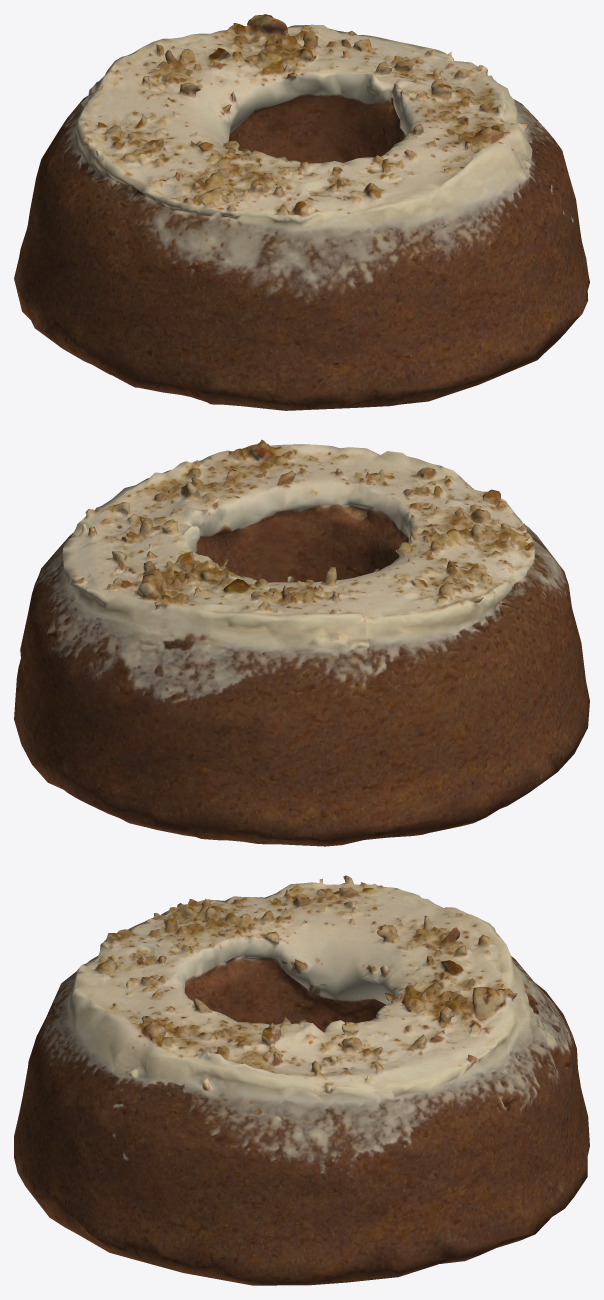
File: carrot_cake_1k.gltf
3 views of the same model, one above another, from view 1: azimuth 30°, elevation 25°; view 2: azimuth 150°, elevation 25°; view 3: azimuth 270°, elevation 25° (orthographic). The views are drawn at different scales.
Parts seen in each view (by area): view 1: carrot_cake; view 2: carrot_cake; view 3: carrot_cake.
Part boxes in pixels (box(x1,y1,x2,y2)): carrot_cake: box(14, 14, 589, 410); carrot_cake: box(14, 439, 589, 846); carrot_cake: box(14, 875, 589, 1285).
Bounding box in the file's own units: 0.2254 × 0.0976 × 0.2254.
Materials: 1 (1 with a texture image).
